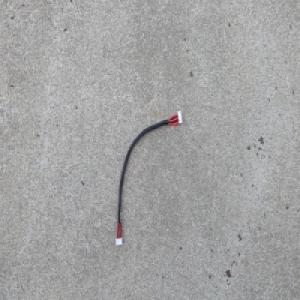Wire: (114, 109, 183, 246)
